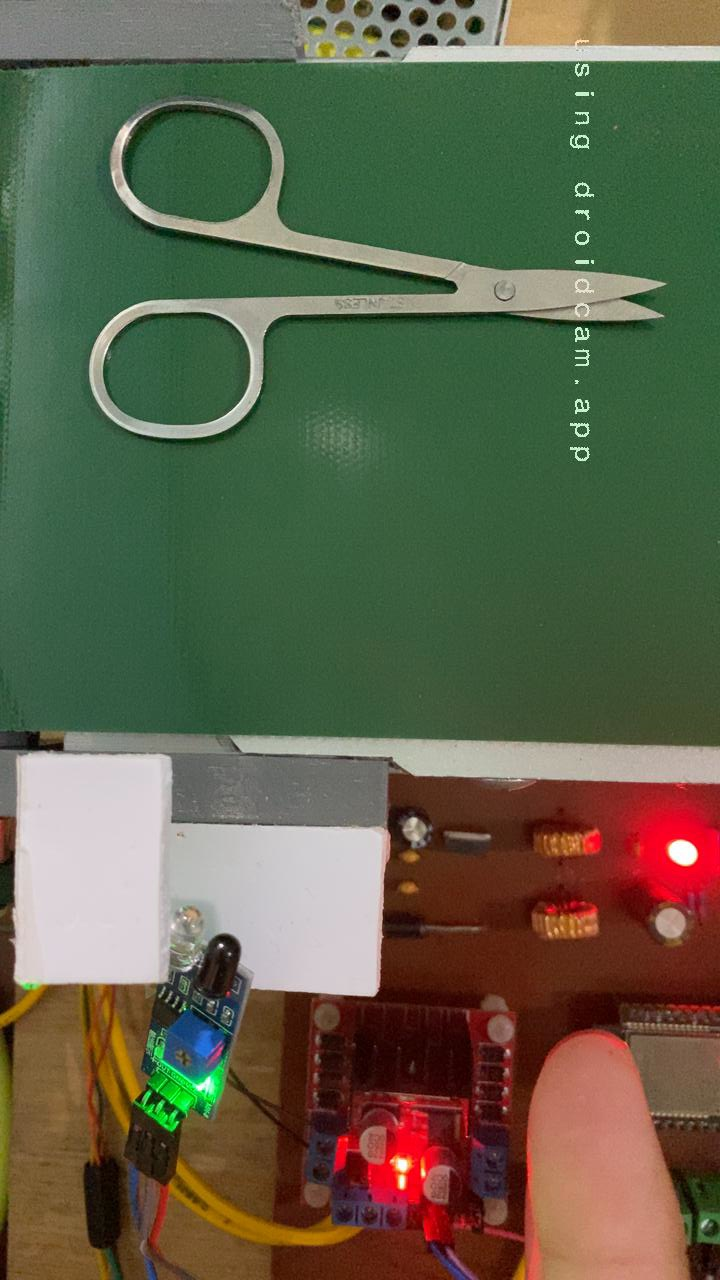scissor: (82, 92, 667, 447)
